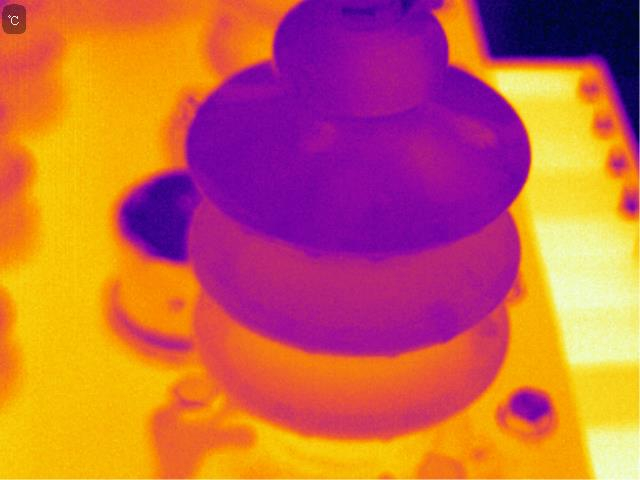Oil: (374, 121, 520, 202), (324, 22, 443, 116), (206, 43, 290, 104), (422, 300, 466, 352), (290, 117, 340, 162)
